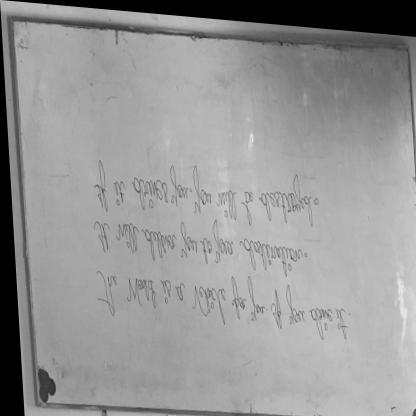Handwritten text: (88, 259, 345, 344), (83, 150, 312, 230), (90, 208, 300, 275)
Whiteboard: (7, 11, 416, 416)
